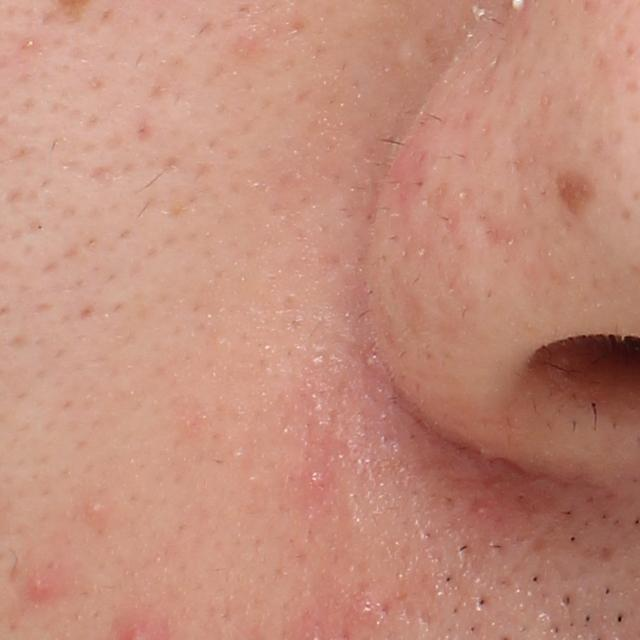comedo: (82, 500, 107, 521)
nevus: (547, 162, 600, 232)
papule: (27, 575, 54, 604)
